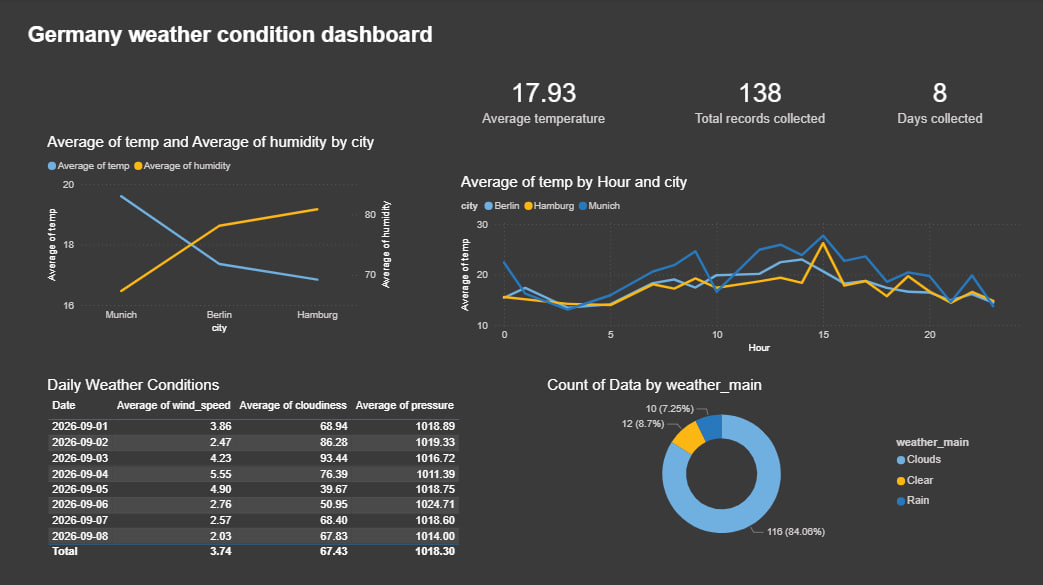

This screenshot's page, from the dashboard's own definition file:
{"tool":"powerbi","page":{"name":"Page 1","canvas":[1280,720],"ordinal":0},"visuals":[{"type":"lineChart","fields":{"Category":["weather_clean.city"],"Y":["Avg(weather_clean.temp)"],"Y2":["Avg(weather_clean.humidity)"]},"box":[56.5,165,430.8,249],"z":0},{"type":"card","fields":{"Values":["Count(weather_clean.Date)"]},"box":[1025.2,71.8,255.1,105.4],"z":1000},{"type":"card","fields":{"Values":["Avg(weather_clean.temp)"]},"box":[537.8,71.8,261.3,105.4],"z":2000},{"type":"card","fields":{"Values":["CountNonNull(weather_clean.Date)"]},"box":[794.5,71.8,276.5,105.4],"z":3000},{"type":"donutChart","fields":{"Category":["weather_clean.weather_main"],"Y":["CountNonNull(weather_clean.Date)"]},"box":[667.7,462.9,542.4,216.9],"z":4000},{"type":"lineChart","fields":{"Category":["weather_clean.Hour"],"Y":["Avg(weather_clean.temp)"],"Series":["weather_clean.city"]},"box":[562.2,213.9,696.7,224.6],"z":5000},{"type":"tableEx","title":"Daily Weather Conditions","fields":{"Values":["weather_clean.Date","Avg(weather_clean.wind_speed)","Avg(weather_clean.cloudiness)","Avg(weather_clean.pressure)"]},"box":[56.5,462.9,514.9,256.7],"z":6000},{"type":"textbox","box":[32.1,22.9,505.7,77.9],"z":6001}]}

Visuals, with their boxes in screenshot pixels (x1, y1, x2, y2), scaled from the page's 1280x720 canvas onto the 1043x585 screenshot:
lineChart - weather_clean.city x Avg(weather_clean.temp): l=46, t=134, r=397, b=336
card - Count(weather_clean.Date): l=835, t=58, r=1042, b=144
card - Avg(weather_clean.temp): l=438, t=58, r=651, b=144
card - CountNonNull(weather_clean.Date): l=647, t=58, r=873, b=144
donutChart - weather_clean.weather_main x CountNonNull(weather_clean.Date): l=544, t=376, r=986, b=552
lineChart - weather_clean.Hour x Avg(weather_clean.temp): l=458, t=174, r=1026, b=356
"Daily Weather Conditions" tableEx: l=46, t=376, r=466, b=584
textbox: l=26, t=19, r=438, b=82
